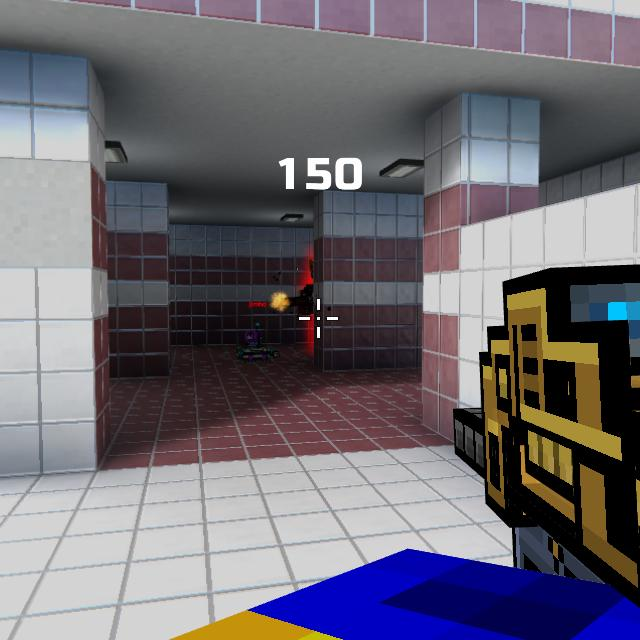Enemy: (303, 260, 312, 316), (300, 284, 315, 315)
